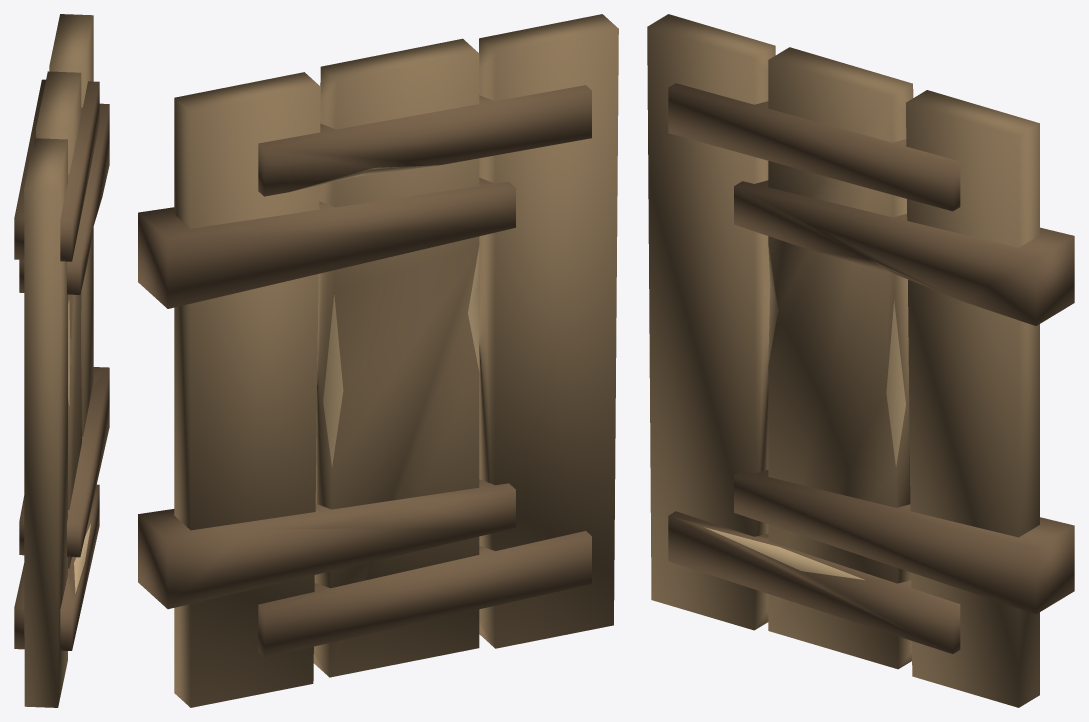
The model's file is rpgpp_ag_window_06_shutter_a.fbx.
3 renders of one model, left to right at view 1: azimuth 30°, elevation 25°; view 2: azimuth 150°, elevation 25°; view 3: azimuth 270°, elevation 25°, orthographic. The views are drawn at different scales.
Parts seen in each view (by area): view 1: rpgpp_ag_window_06_shutter_a; view 2: rpgpp_ag_window_06_shutter_a; view 3: rpgpp_ag_window_06_shutter_a.
Boxes of the visible parts, x1,y1,x2,y2 form: rpgpp_ag_window_06_shutter_a: (14, 14, 109, 707); rpgpp_ag_window_06_shutter_a: (138, 14, 618, 707); rpgpp_ag_window_06_shutter_a: (647, 14, 1074, 707).
Bounding box in the file's own units: 0.5198 × 1.03 × 0.6928.
